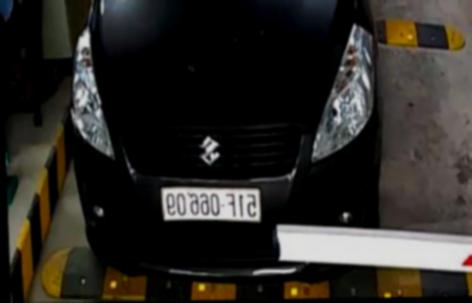License_Plate: (145, 182, 272, 231)
